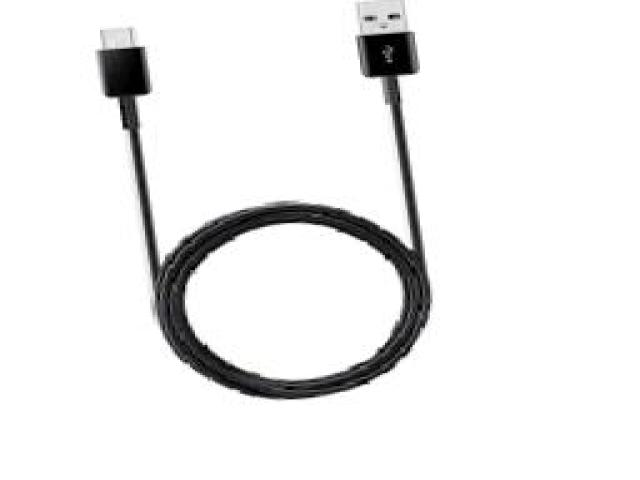wire: (92, 0, 432, 399)
